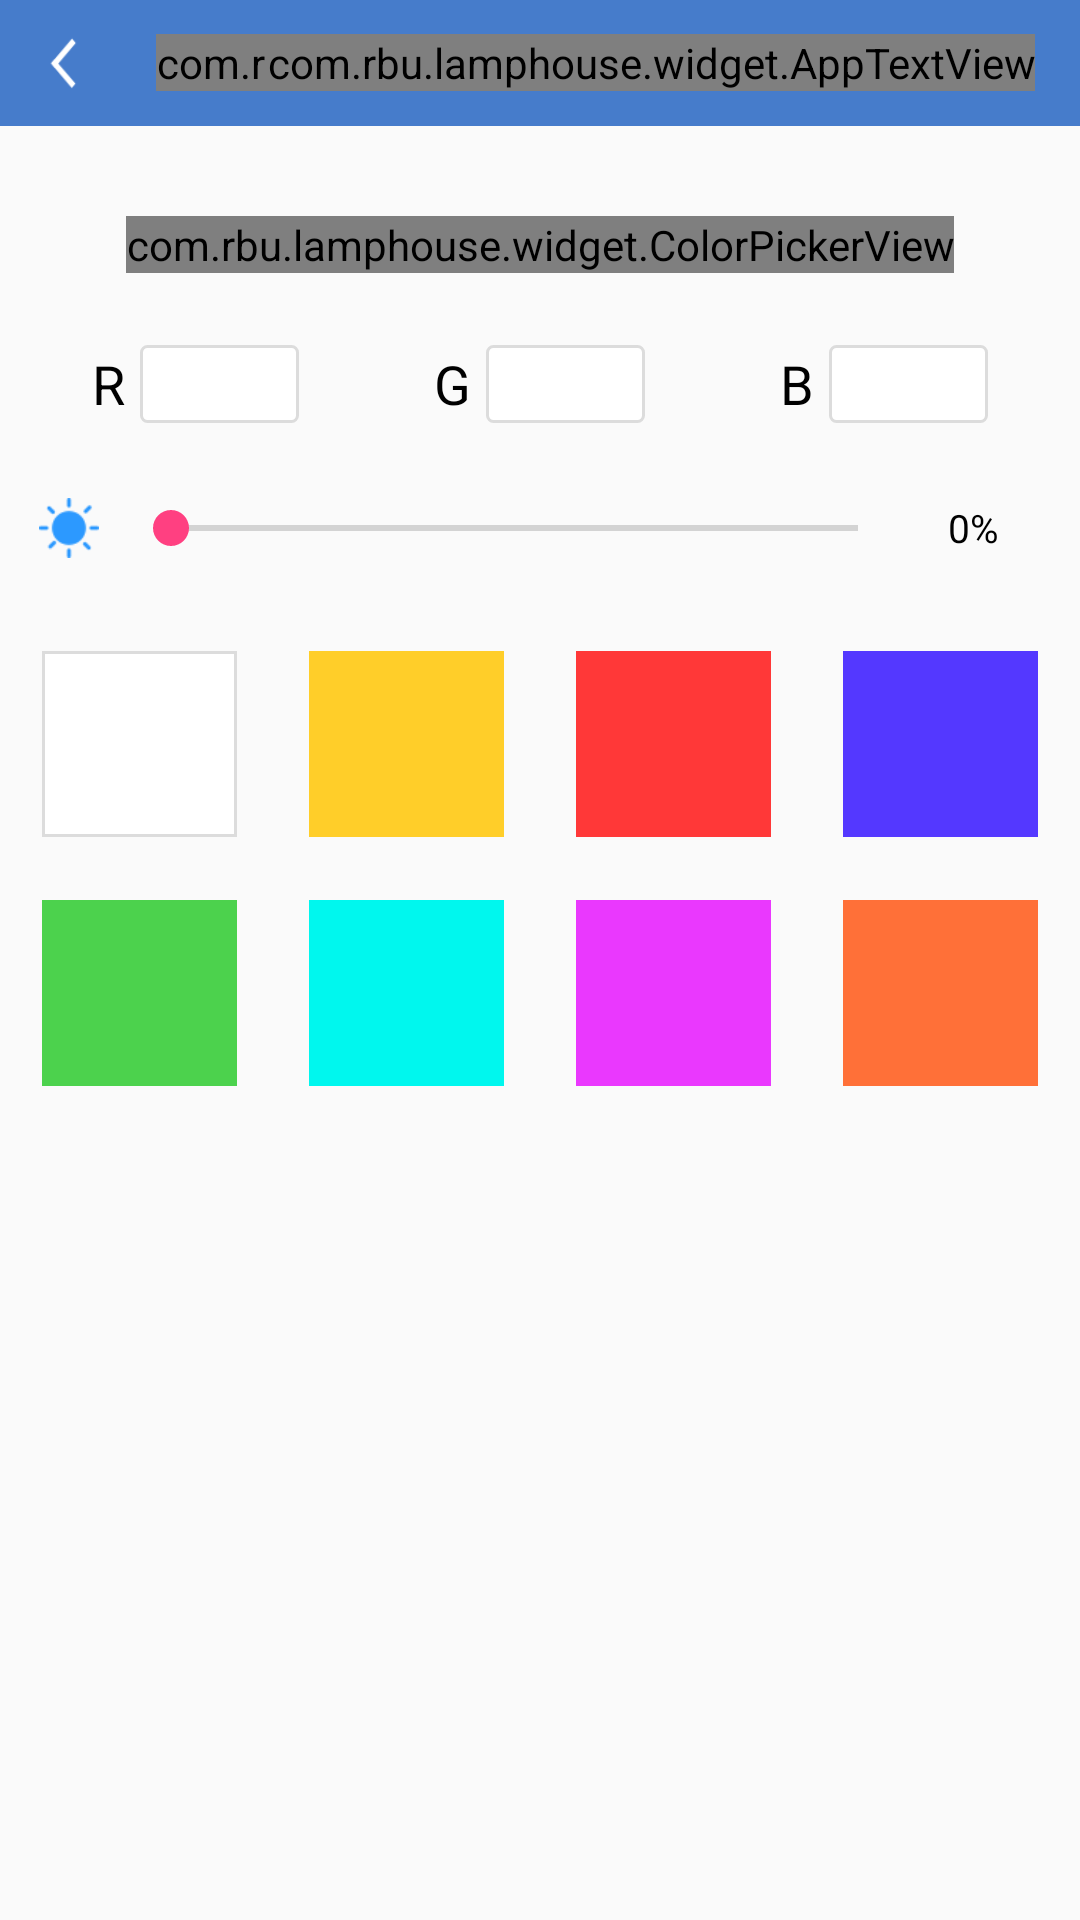

Where icons sit on this 1080 x 1920 app screen, as (x1, y1, x2, y2):
back: (50, 38, 76, 88)
liangdu: (39, 498, 99, 558)
